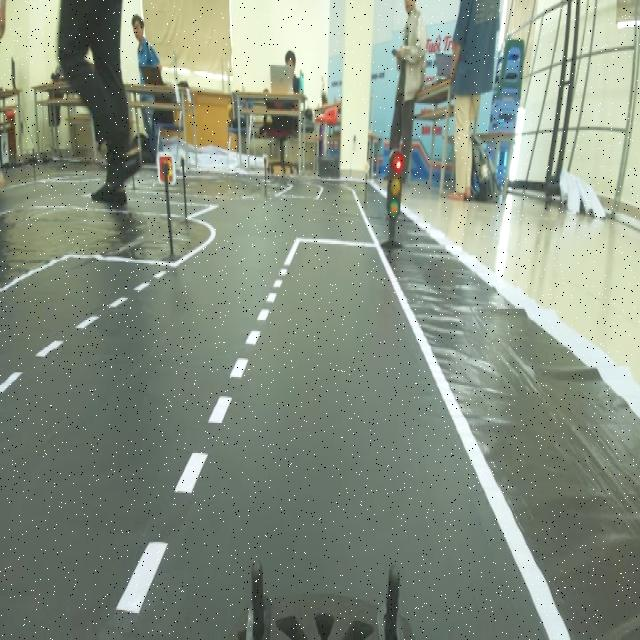trafficlight: (373, 138, 408, 255)
